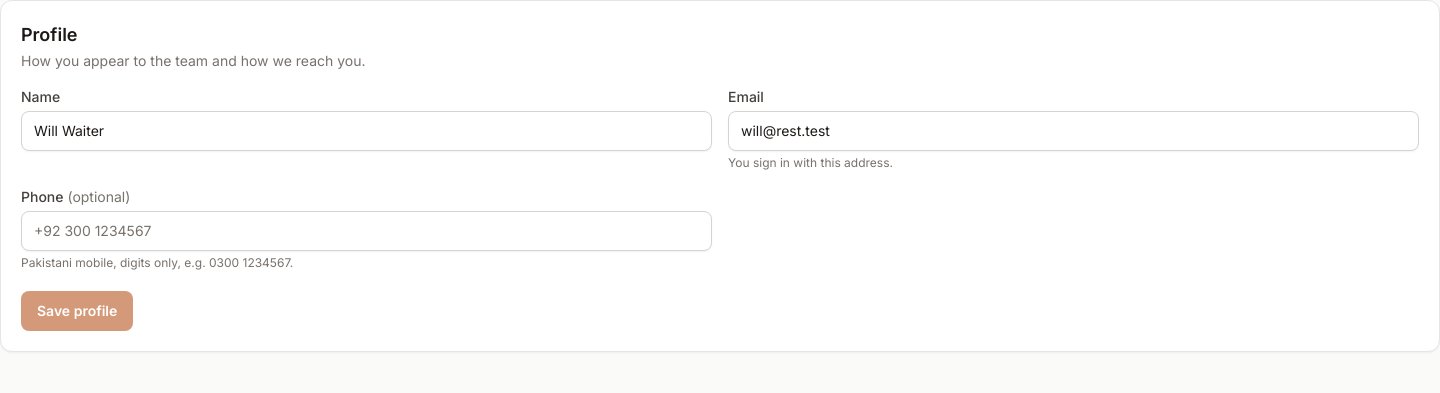
it: AccountProfileForm › asks for the current password when the email changes and sends it with the new email
Replace the text in the field labelled "Email" with "will.w@rest.test" at point(1074, 131), box [728,111,1419,151]
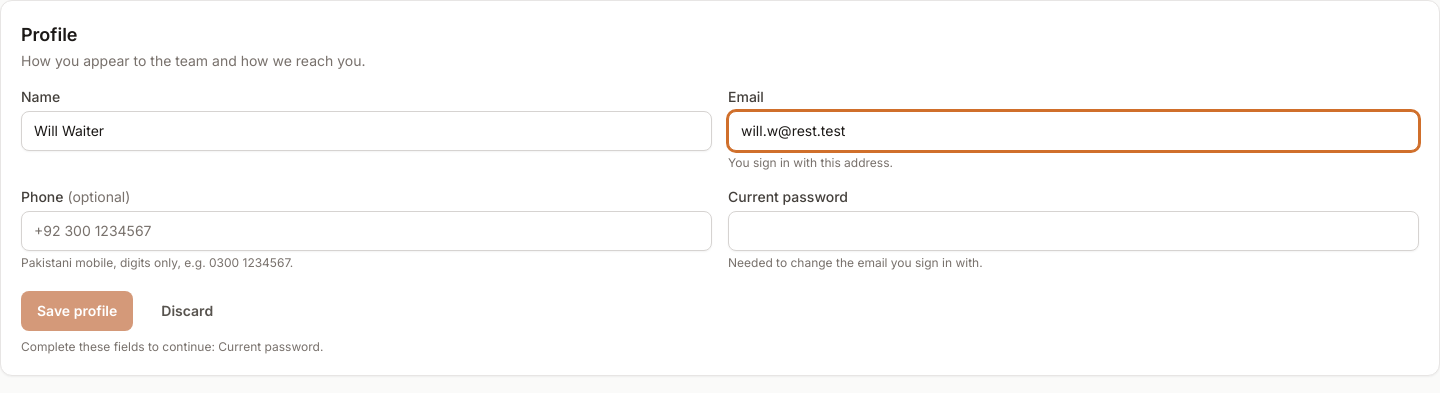
// Act — try to submit without the password first
Click the button "Save profile" at point(77, 311), box [21,291,133,331]
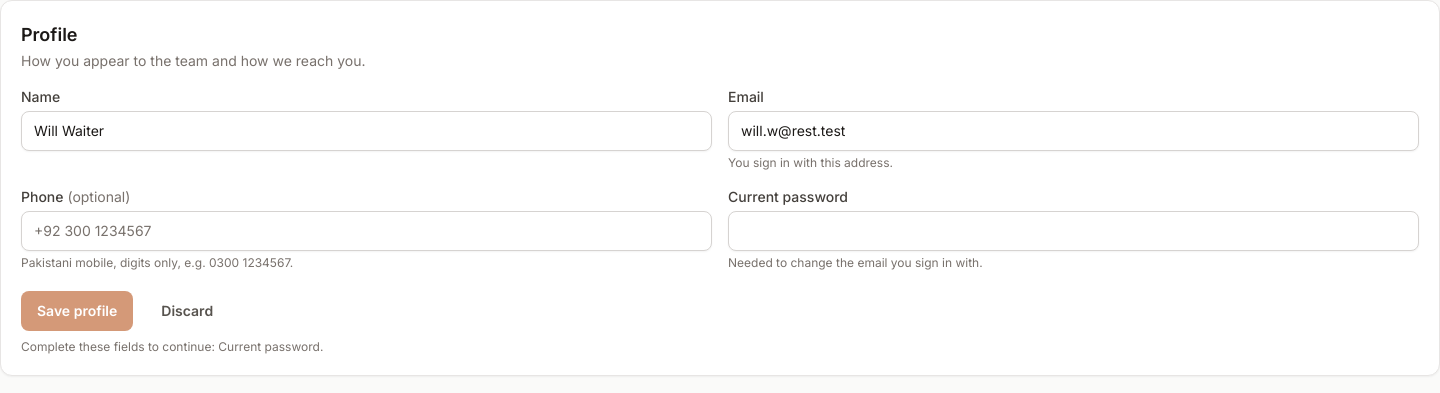
Click the password field labelled "Current password" at point(1074, 231), box [728,211,1419,251]
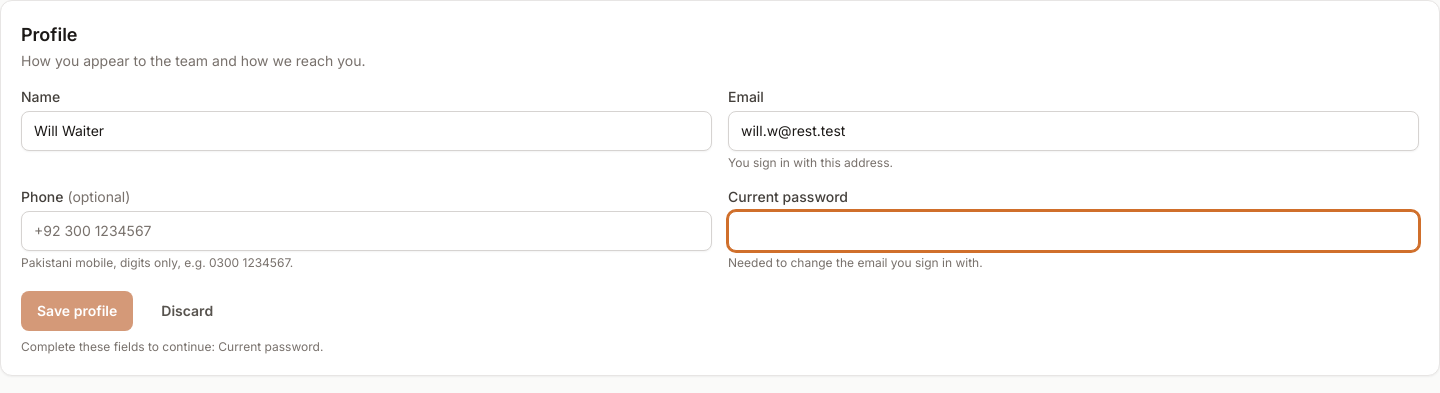
Press Tab
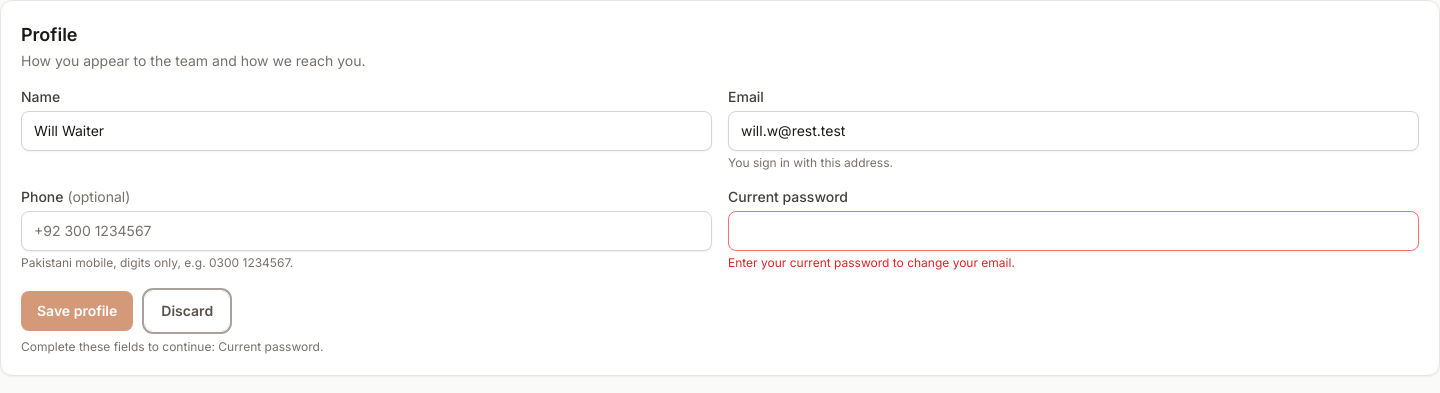
Type "secret1" into the password field labelled "Current password" at point(1074, 231), box [728,211,1419,251]
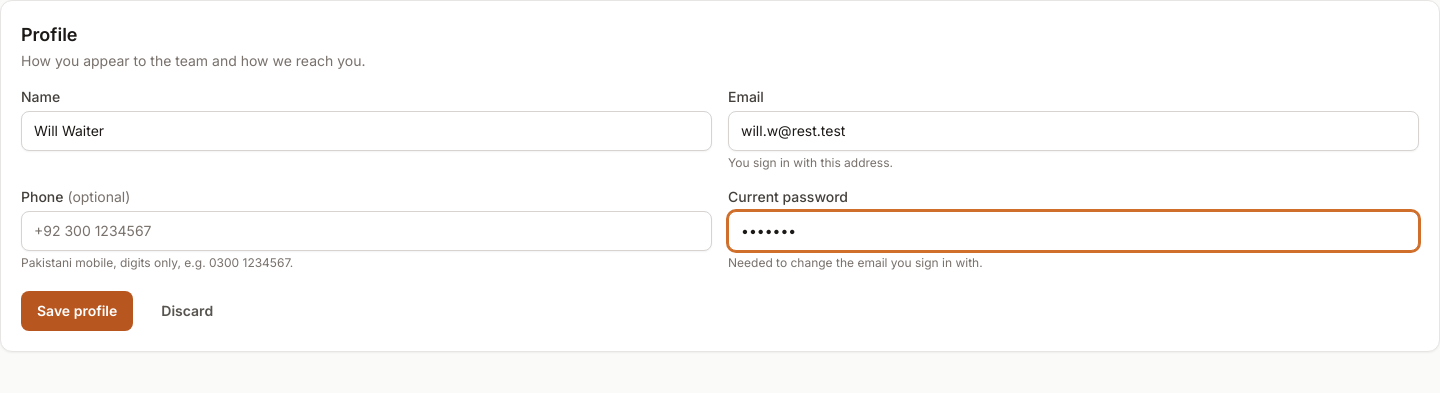
Click the button "Save profile" at point(77, 311), box [21,291,133,331]
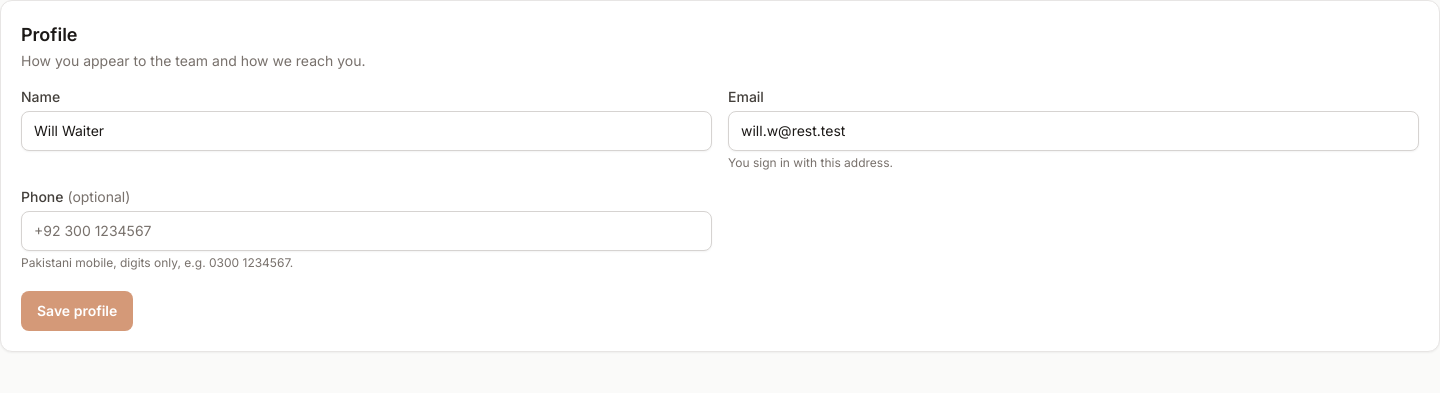
Check: the label labelled "Current password" is gone
